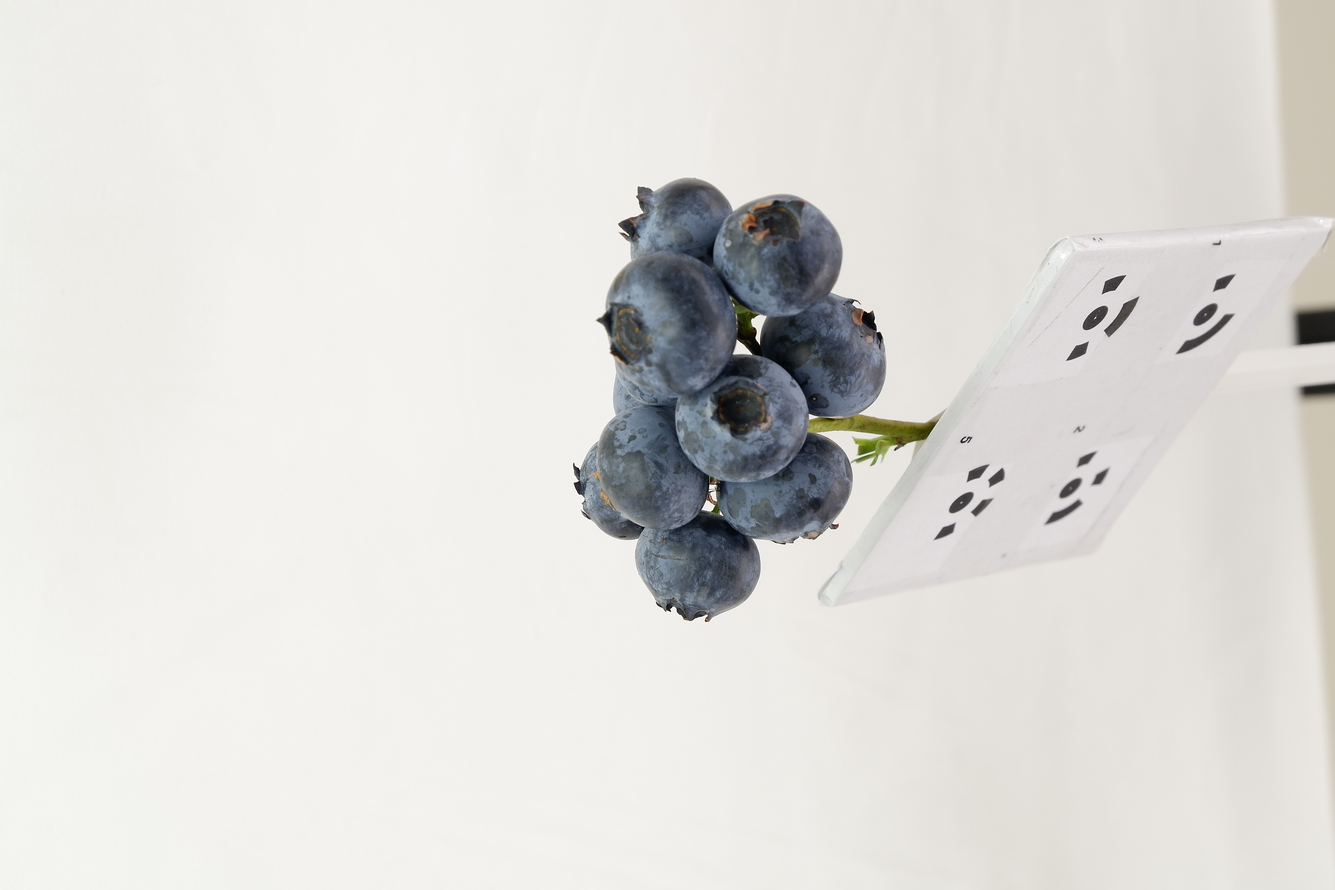Mature: (605, 253, 733, 397), (675, 356, 810, 480), (762, 293, 885, 415), (718, 197, 842, 314), (717, 435, 852, 540), (599, 406, 705, 527), (638, 514, 759, 618), (623, 180, 729, 261), (578, 440, 640, 537), (614, 359, 678, 407), (613, 375, 646, 416)
